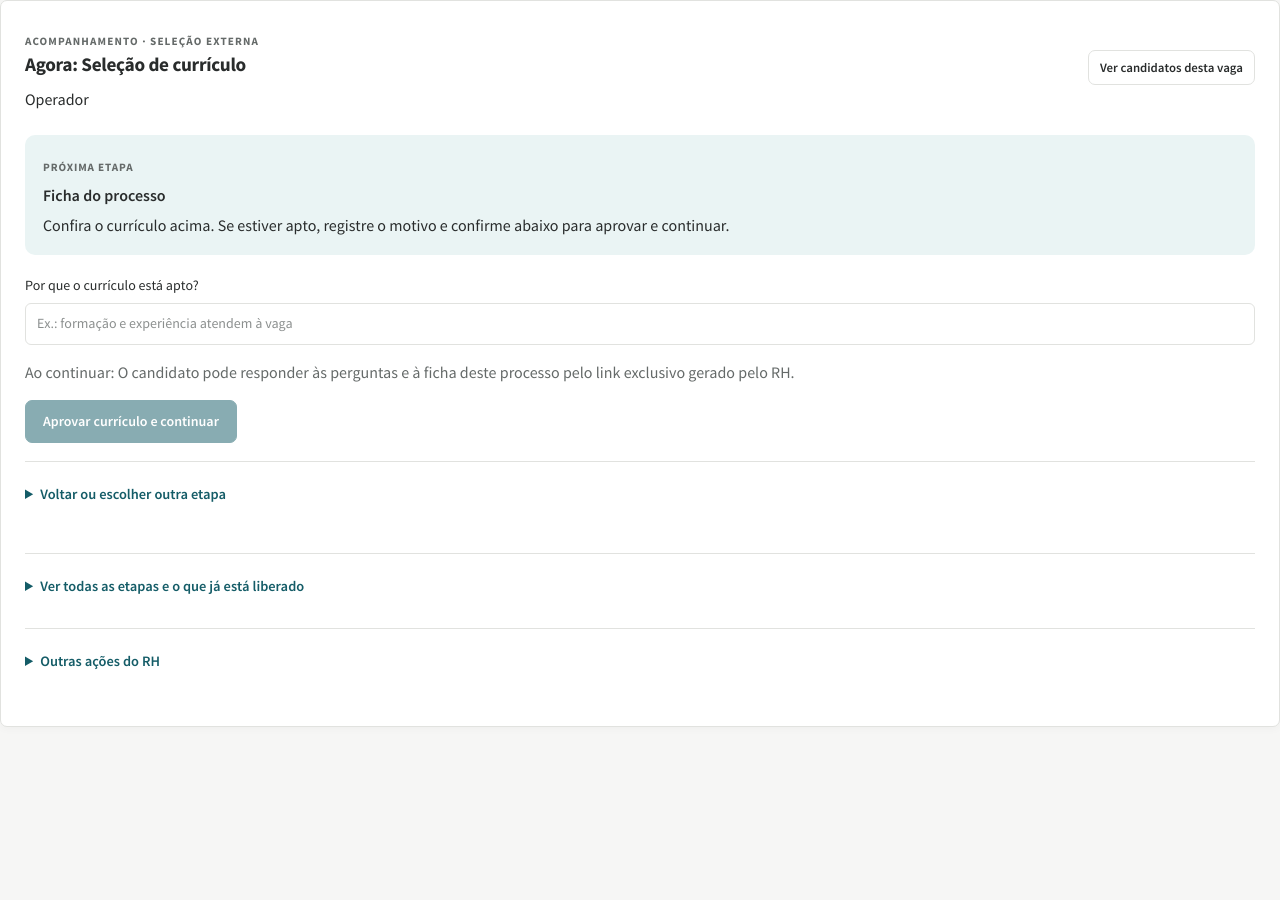
Scenario: libera a etapa da candidatura EXTERNAL somente após confirmação, com controle de versão
Type "Currículo conferido pelo RH" into the field labelled "Por que o currículo está apto?".
click(640, 324); type("Currículo conferido pelo RH")  # box [25,303,1255,345]
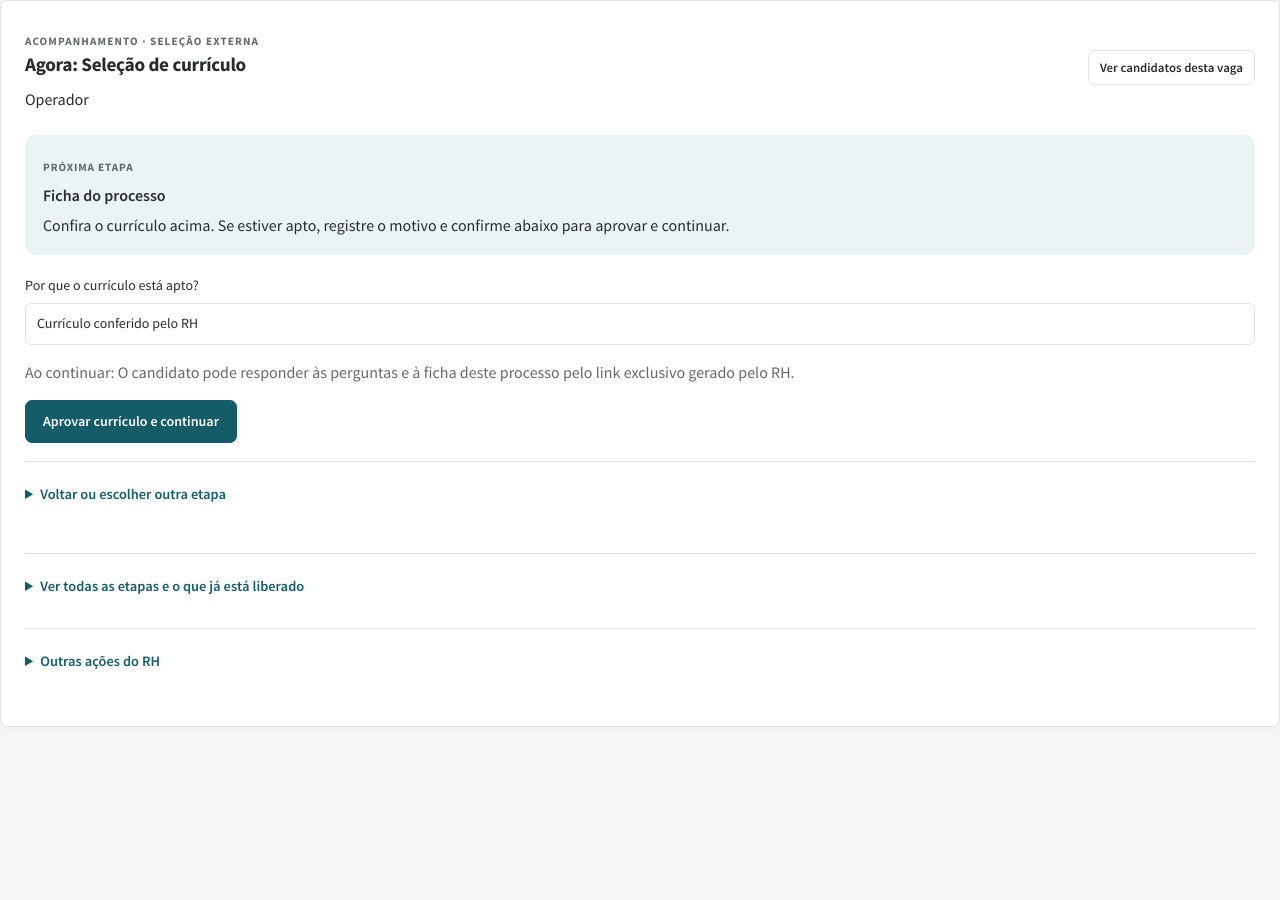
Click the button "Aprovar currículo e continuar".
click(131, 421)  # box [25,400,237,443]
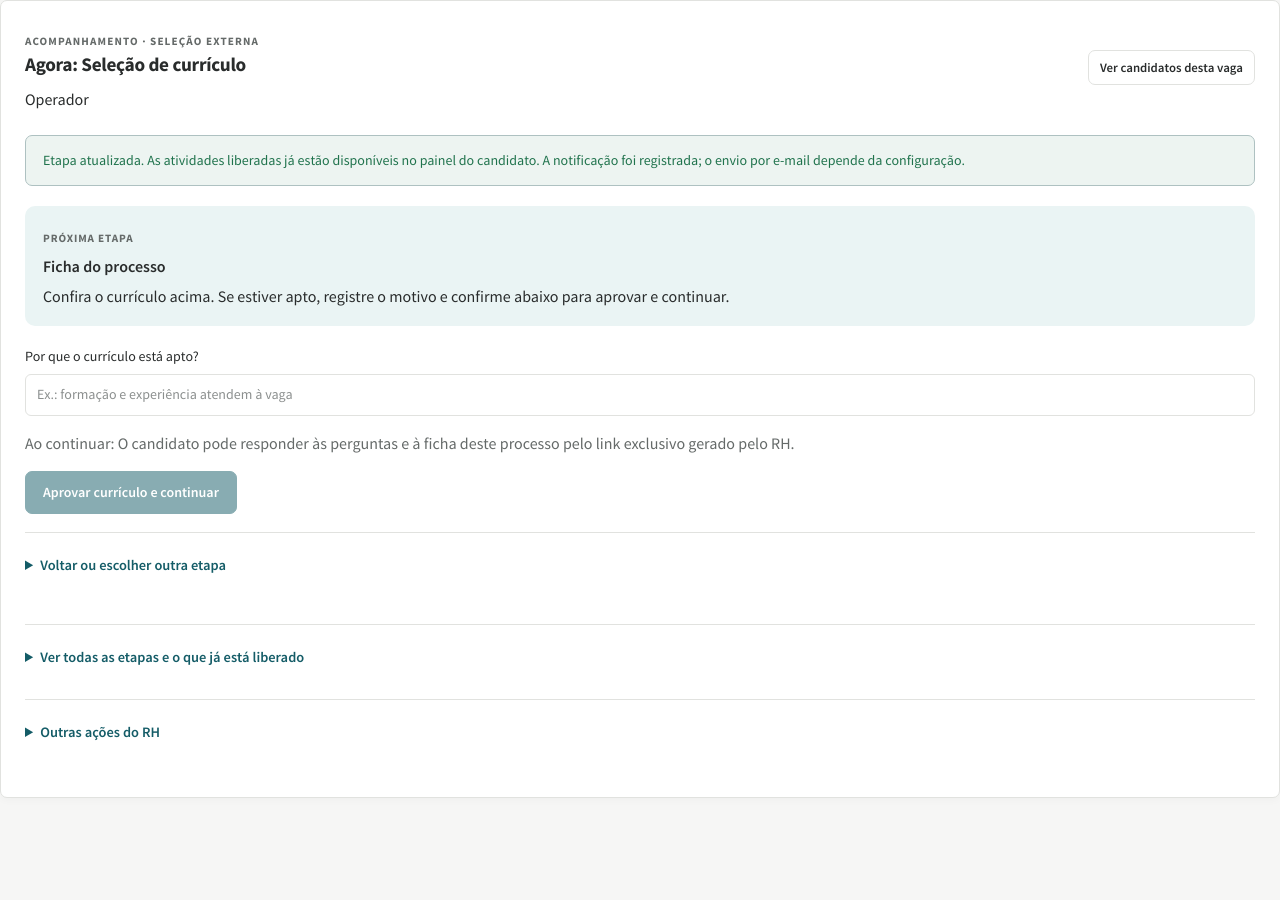
Expected: the text "As atividades liberadas já estão disponíveis" is shown, [43,151,477,169]
